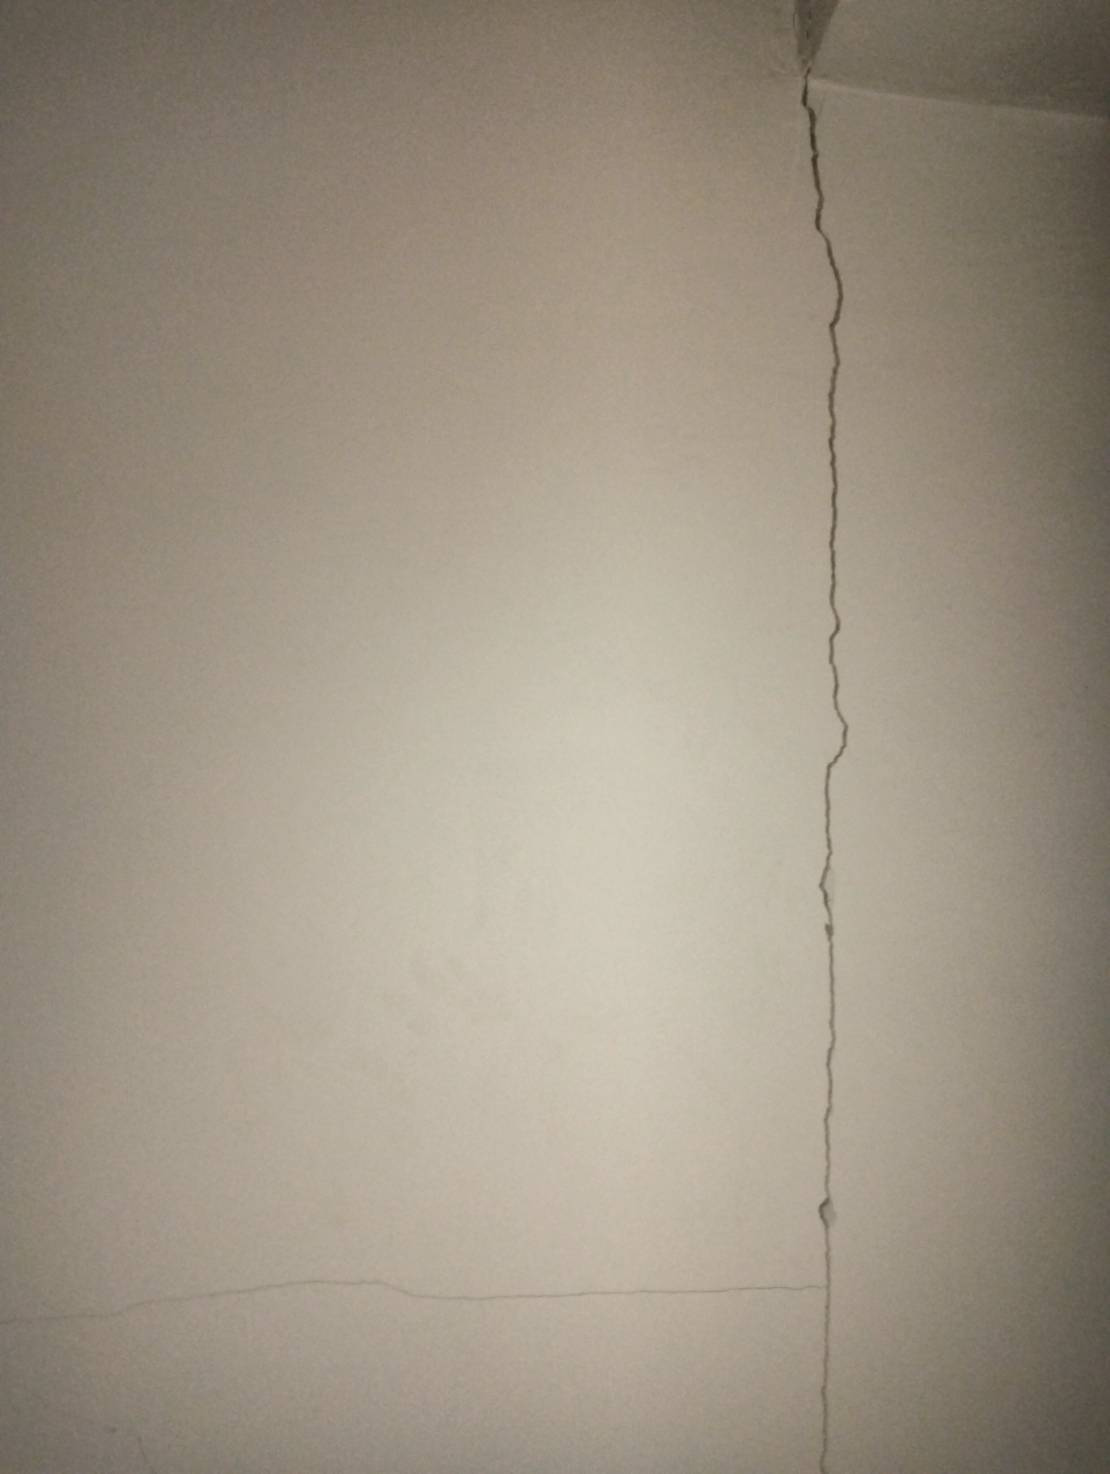Low: (767, 61, 888, 1474)
